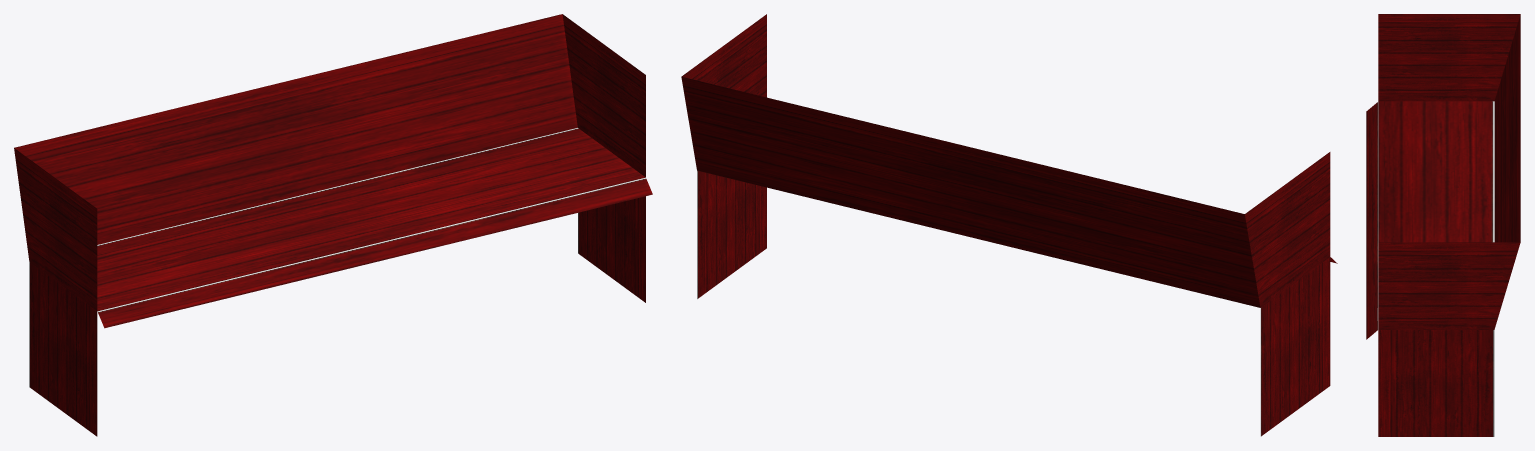
Rendered from bench_1_v1.obj.
The picture shows the model from 3 angles, left to right: view 1: azimuth 30°, elevation 25°; view 2: azimuth 150°, elevation 25°; view 3: azimuth 270°, elevation 25°; orthographic projection. The views are drawn at different scales.
Visible parts, largest first — view 1: bench_1_v1; view 2: bench_1_v1; view 3: bench_1_v1.
Boxes of the visible parts, box(x1,y1,x2,y2) form: bench_1_v1: box(14, 14, 652, 436); bench_1_v1: box(681, 14, 1337, 436); bench_1_v1: box(1366, 14, 1520, 436).
Size of the model in its own units: 1.83 by 0.7267 by 0.5222.
Materials: 1 (1 with a texture image).
